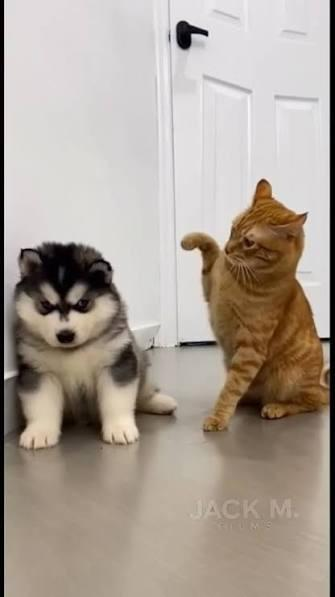non-dog: (179, 177, 334, 433)
puppy-dog: (9, 242, 177, 450)
